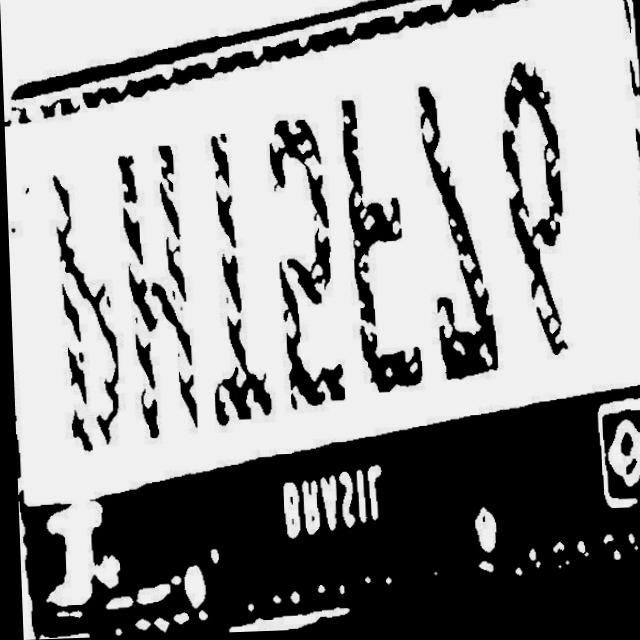5: (264, 109, 349, 428)
6: (495, 68, 577, 369)
7: (416, 90, 500, 403)
f: (338, 92, 422, 414)
h: (114, 120, 211, 445)
p: (47, 127, 125, 454)
t: (192, 128, 269, 430)
